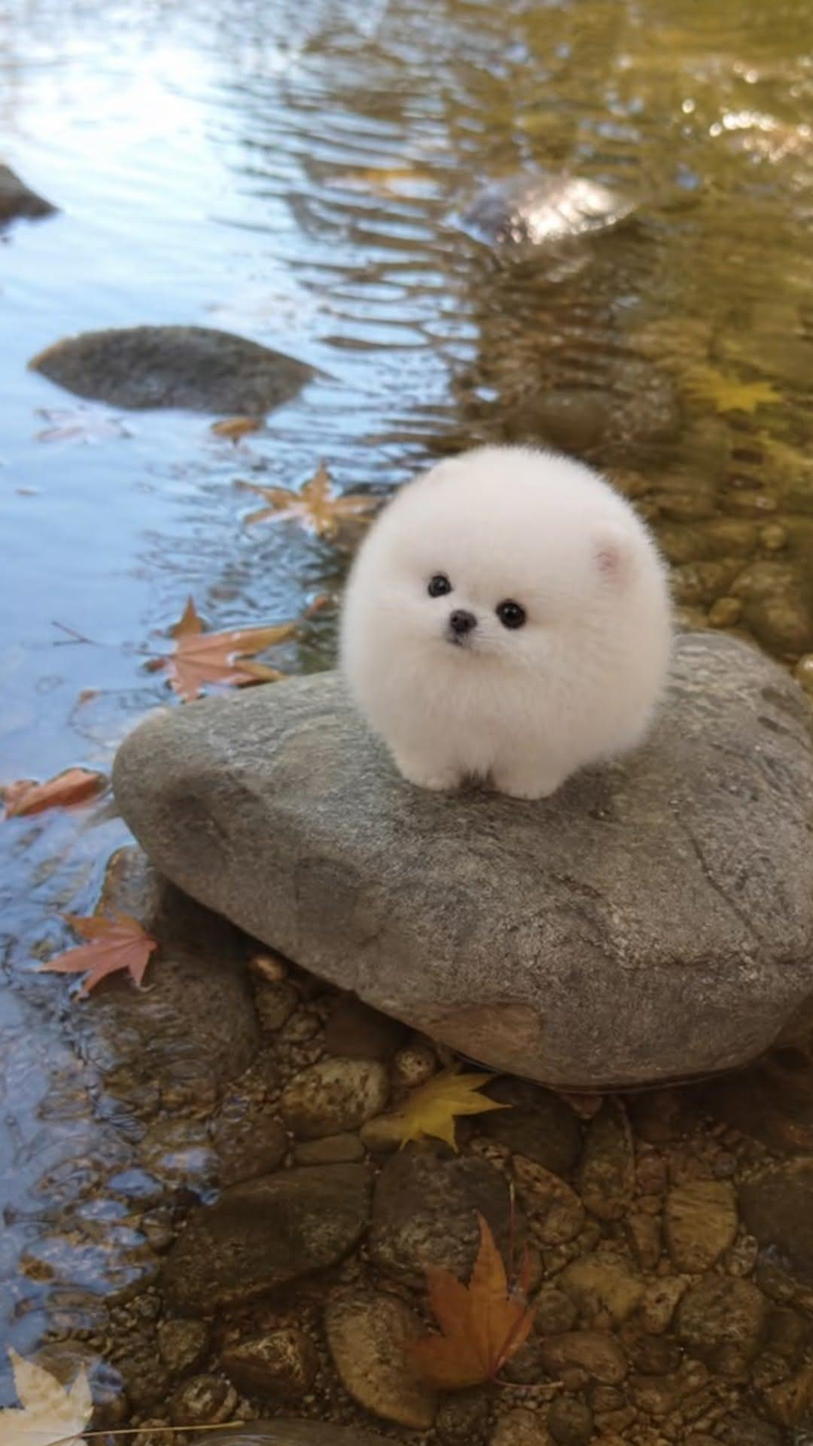puppy-dog: (335, 442, 680, 804)
